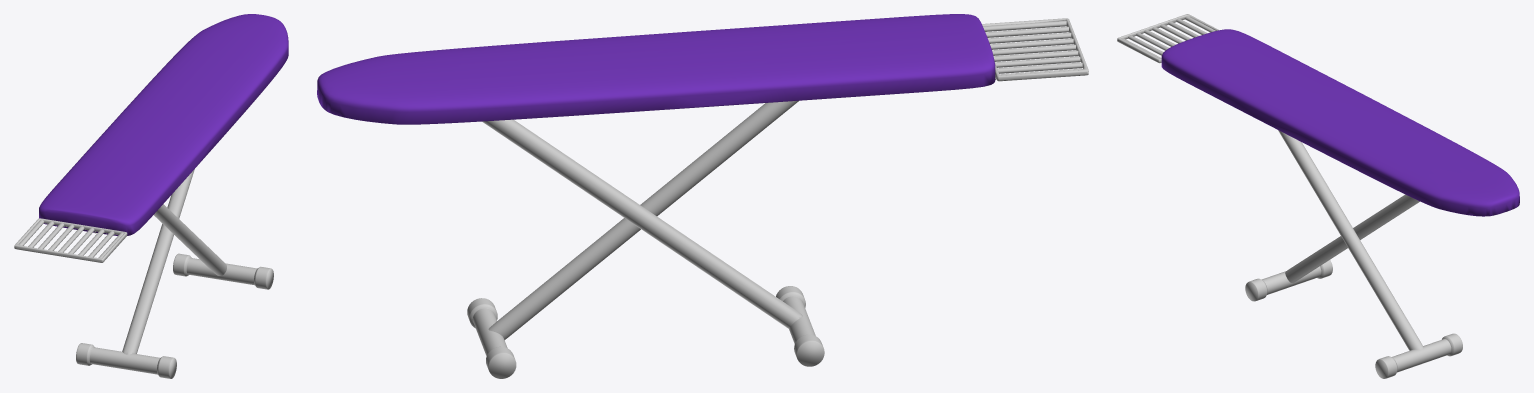
The model's file is BURRO.obj.
3 renders of one model, left to right at view 1: azimuth 30°, elevation 25°; view 2: azimuth 150°, elevation 25°; view 3: azimuth 270°, elevation 25°, orthographic. The views are drawn at different scales.
Parts seen in each view (by area): view 1: Cylinder.001; view 2: Cylinder.001; view 3: Cylinder.001.
Boxes of the visible parts, <box> form: Cylinder.001: <box>14,14,288,378</box>; Cylinder.001: <box>317,14,1088,378</box>; Cylinder.001: <box>1117,14,1519,378</box>.
Size of the model in its own units: 1.3 by 0.6356 by 1.11.
3 materials, 1 textured.
